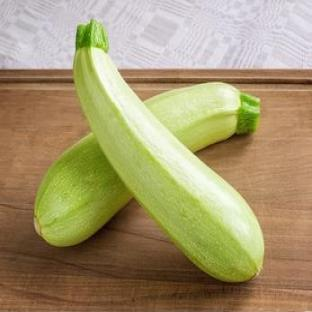Zucchini: (74, 21, 264, 281), (35, 134, 132, 247)
